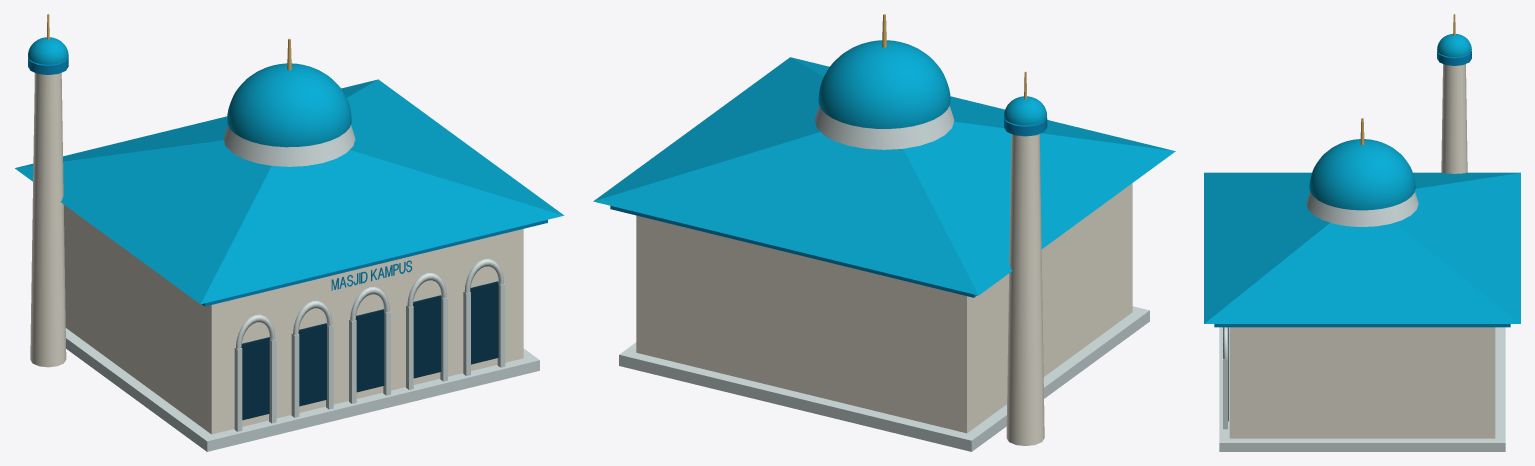
Rendered from masjid.glb.
3 renders of one model, left to right at view 1: azimuth 30°, elevation 25°; view 2: azimuth 150°, elevation 25°; view 3: azimuth 270°, elevation 25°, orthographic. The views are drawn at different scales.
Parts seen in each view (by area): view 1: Masjid_roof, Masjid_ivory, Masjid_trim, Masjid_darkglass, Masjid_blue; view 2: Masjid_ivory, Masjid_roof, Masjid_trim, Masjid_blue; view 3: Masjid_roof, Masjid_ivory, Masjid_trim, Masjid_blue.
Part boxes in pixels (x1=…): Masjid_roof: x1=15, y1=37, x2=563, y2=304; Masjid_ivory: x1=30, y1=73, x2=523, y2=434; Masjid_trim: x1=65, y1=125, x2=539, y2=451; Masjid_darkglass: x1=241, y1=281, x2=498, y2=420; Masjid_blue: x1=28, y1=57, x2=547, y2=306; Masjid_ivory: x1=636, y1=134, x2=1132, y2=445; Masjid_roof: x1=593, y1=40, x2=1175, y2=295; Masjid_trim: x1=619, y1=106, x2=1149, y2=451; Masjid_blue: x1=610, y1=117, x2=1047, y2=297; Masjid_roof: x1=1204, y1=34, x2=1520, y2=323; Masjid_ivory: x1=1229, y1=64, x2=1495, y2=438; Masjid_trim: x1=1219, y1=191, x2=1505, y2=451; Masjid_blue: x1=1214, y1=51, x2=1510, y2=327.
Bounding box in the file's own units: 26.78 × 22.85 × 22.32.
